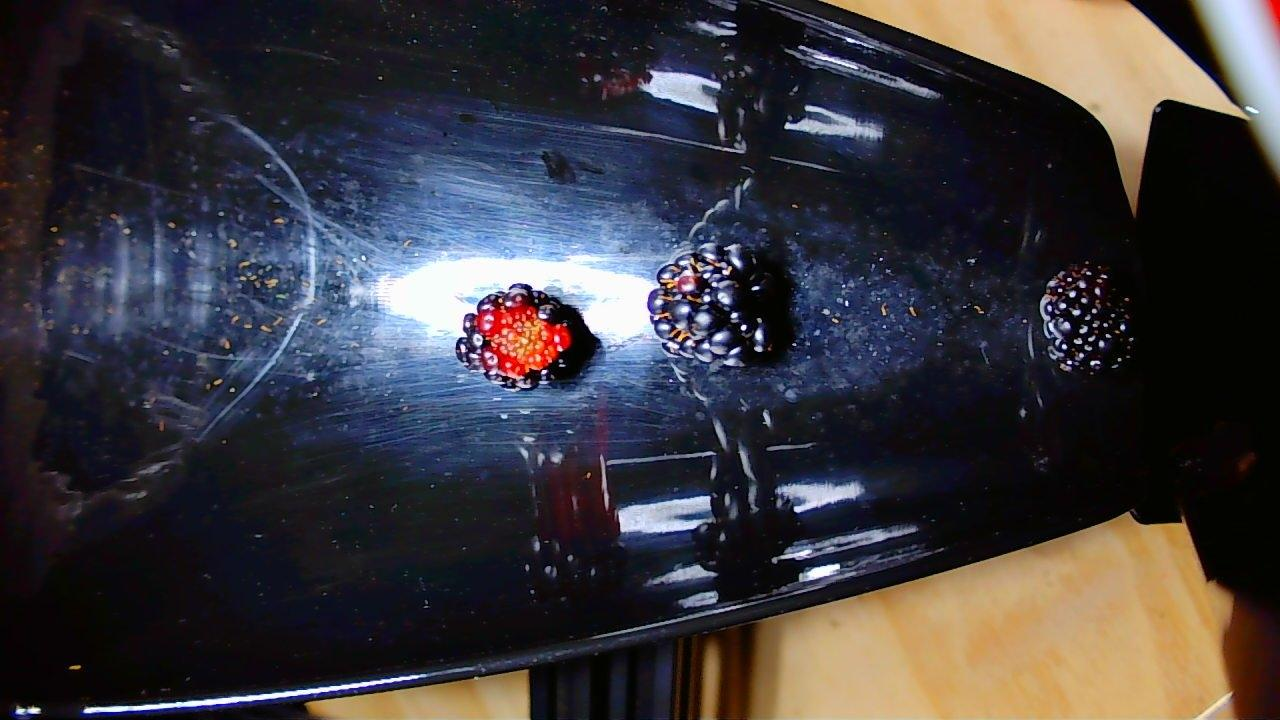berry: (648, 233, 780, 368), (455, 284, 596, 391), (1035, 262, 1131, 378)
